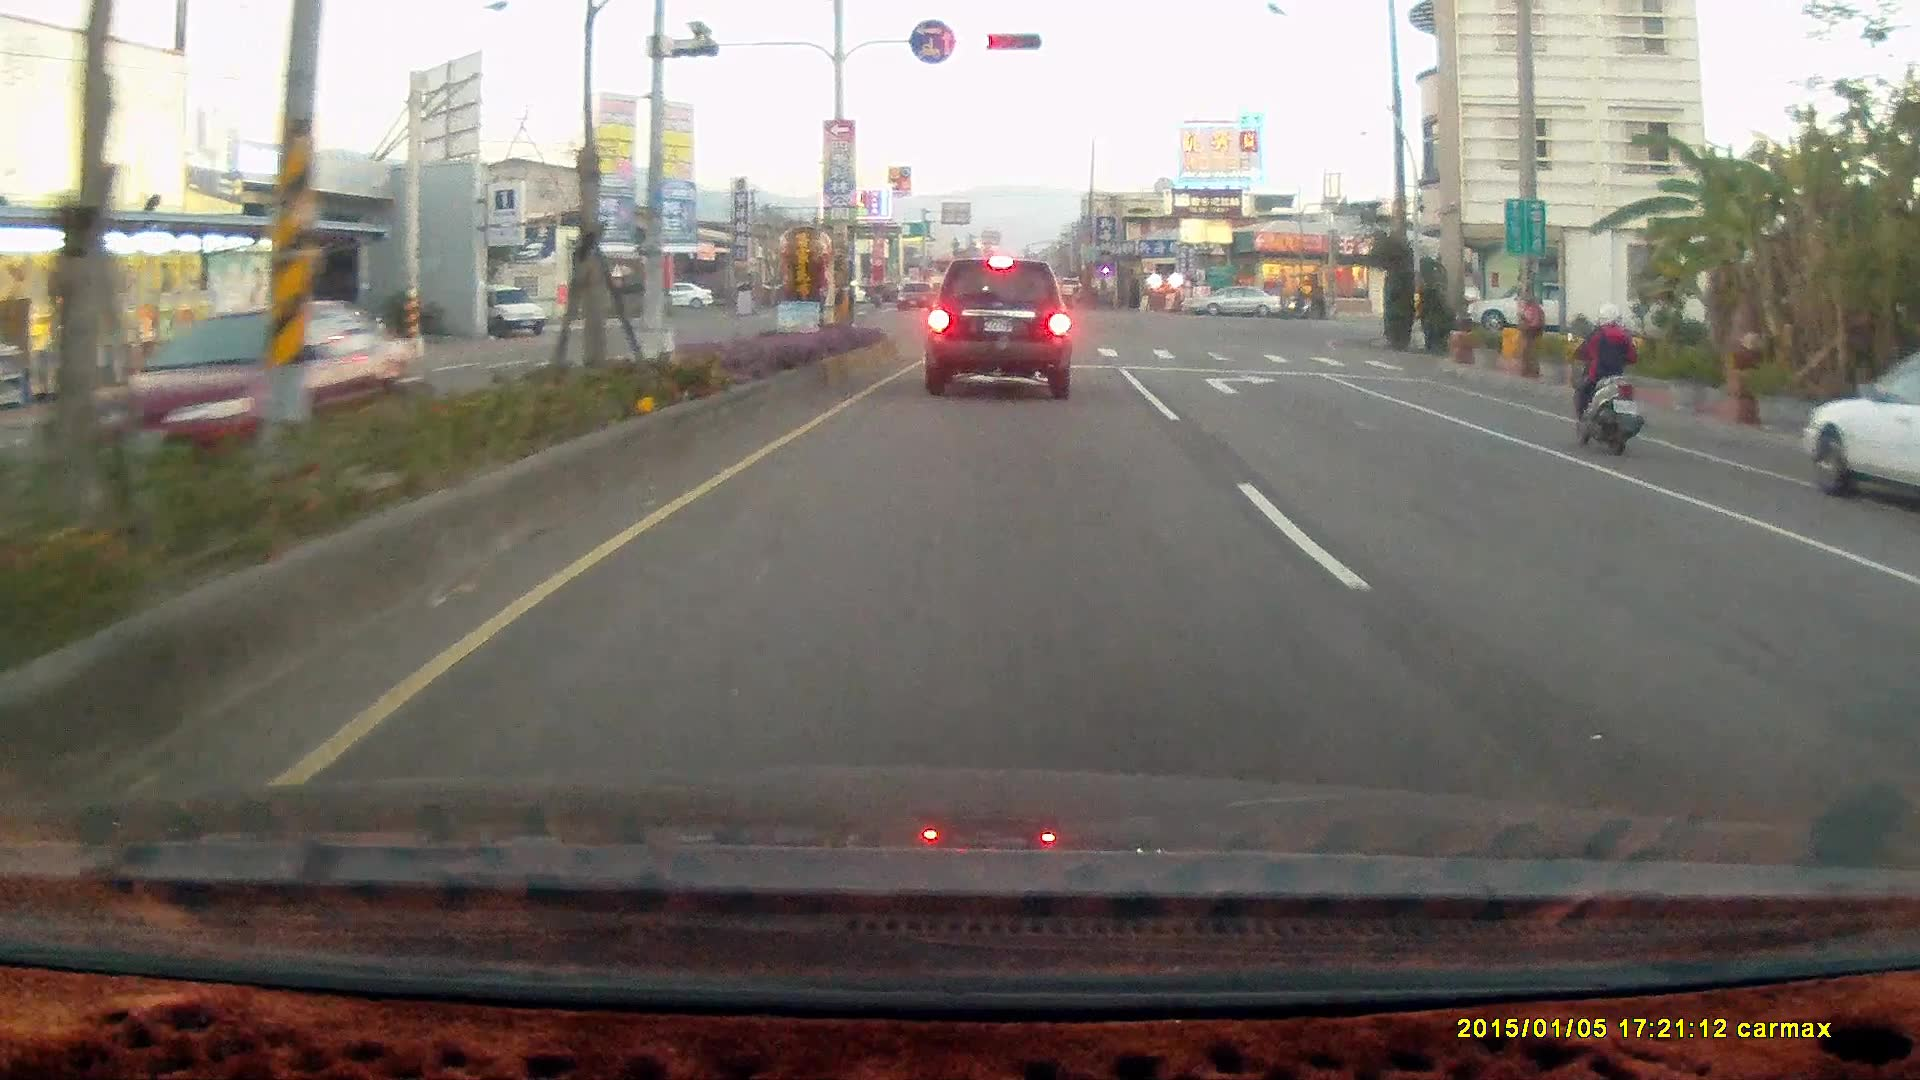rider: (1562, 299, 1644, 455), (1281, 283, 1312, 319)
vehicle: (924, 257, 1072, 400), (1801, 352, 1920, 514), (1896, 493, 1920, 836), (1464, 277, 1586, 334), (1883, 528, 1920, 690), (474, 284, 548, 339), (1182, 283, 1283, 320), (1181, 284, 1282, 317)
